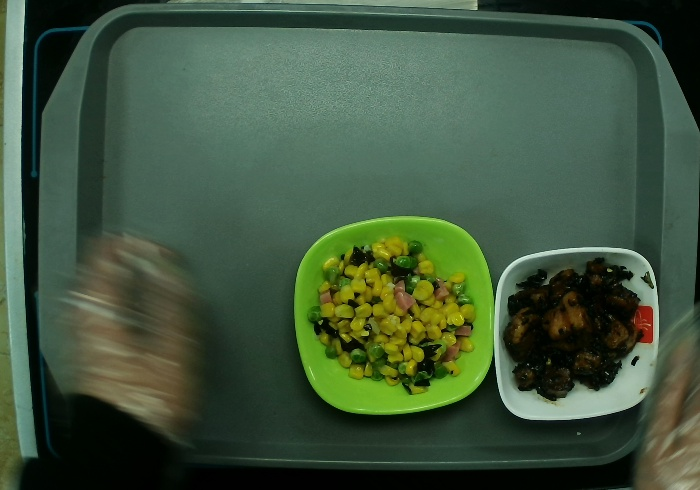SHKJ-Bai_Se_Xiao_Fang_Die: (492, 244, 661, 422)
SHKJ-Lv_Se_Cai_Die: (287, 212, 499, 422)
